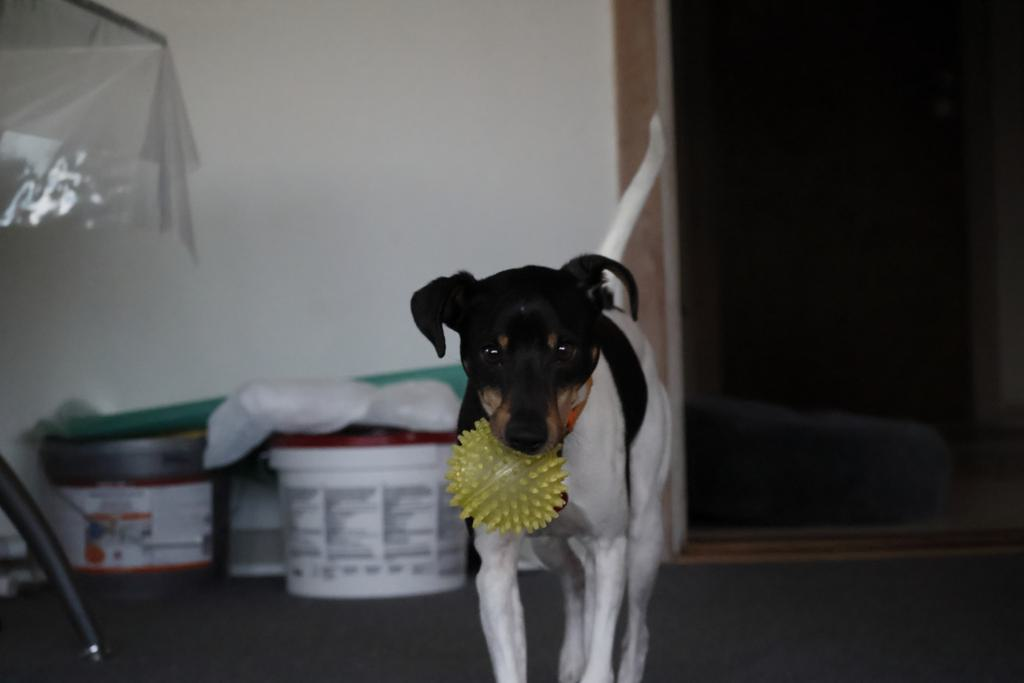Dog: (399, 100, 708, 683)
